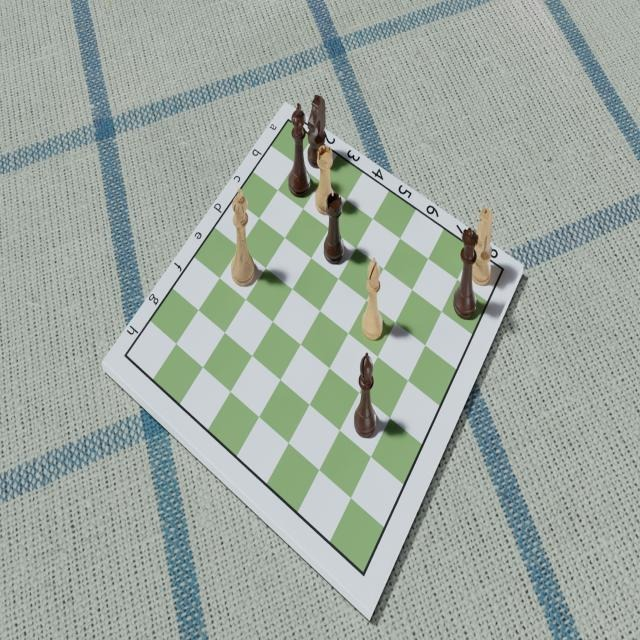black-bishop: (354, 351, 380, 441)
black-king: (285, 106, 311, 202)
black-knight: (304, 92, 327, 168)
black-queen: (451, 222, 479, 322)
black-rook: (322, 190, 345, 265)
white-bishop: (361, 252, 387, 344)
white-king: (230, 187, 258, 293)
white-knight: (471, 201, 497, 292)
white-rook: (314, 146, 336, 218)
